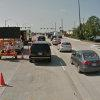Car: (26, 37, 61, 78)
